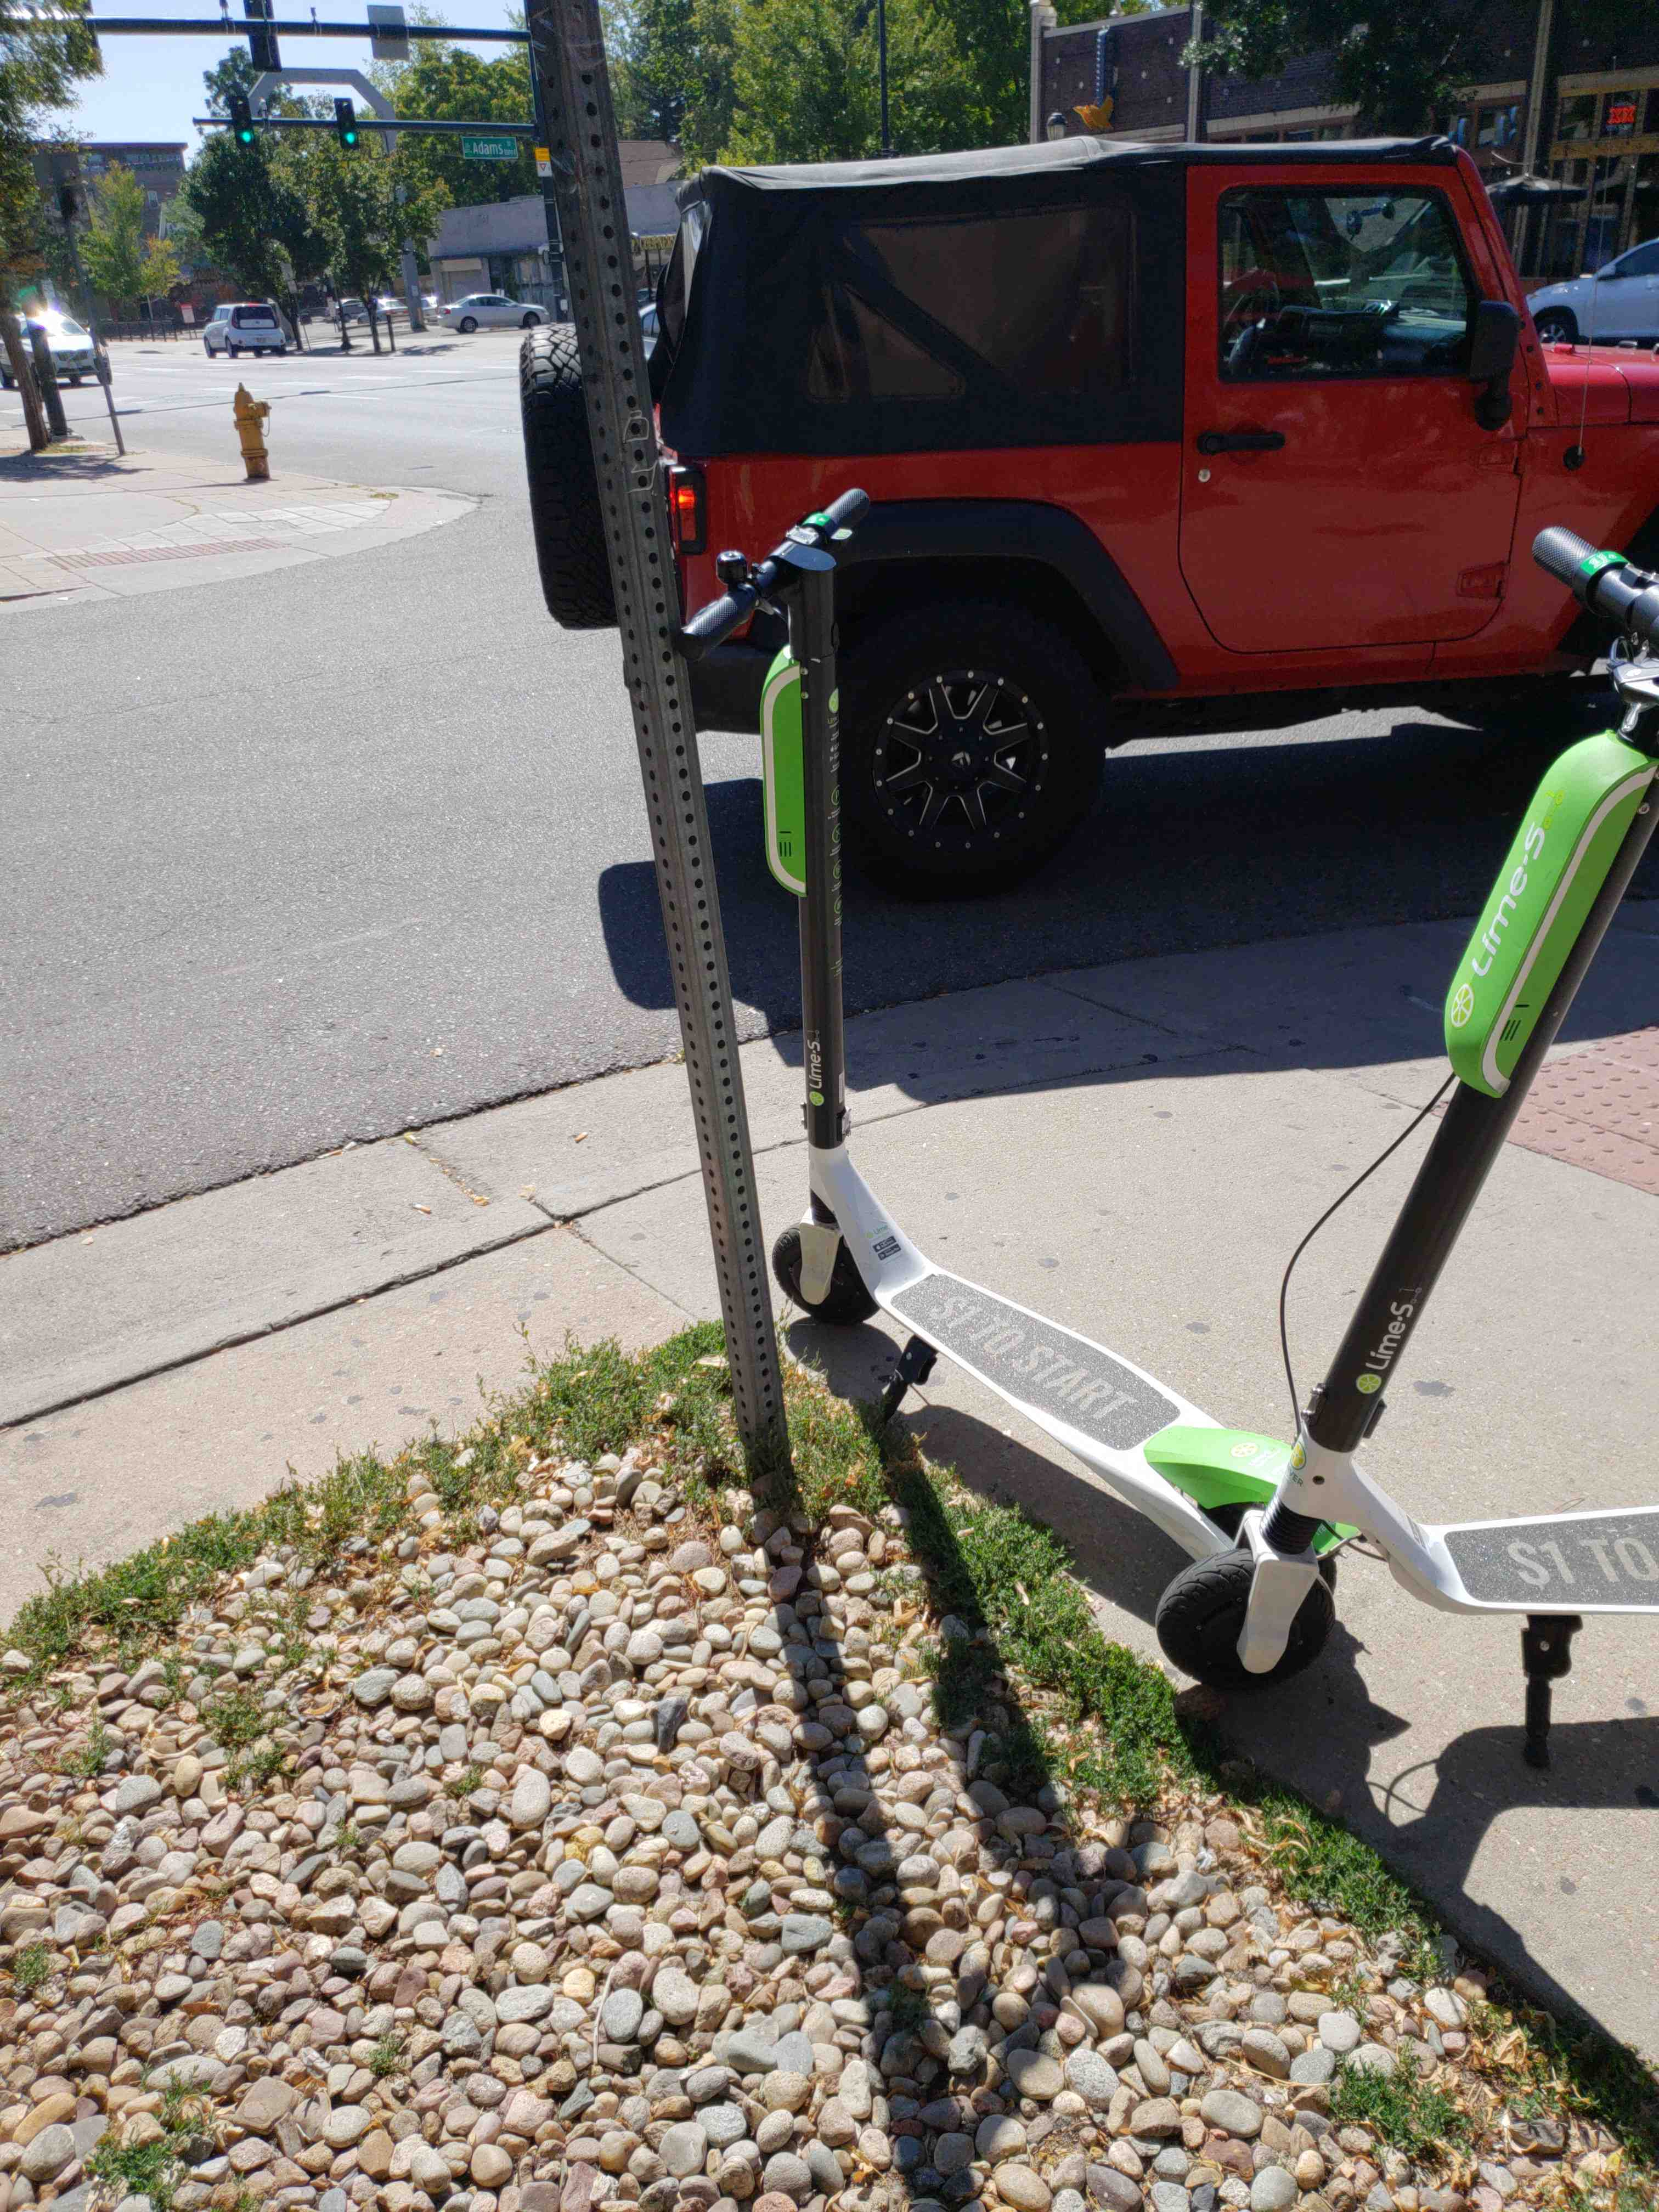scooter: (601, 482, 1344, 1723)
